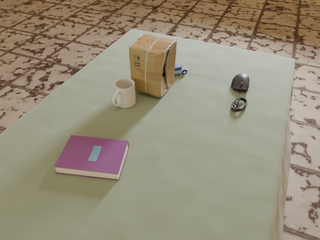book: (54, 135, 129, 180)
box: (129, 34, 177, 98)
cup: (112, 79, 136, 108)
mouse: (231, 74, 249, 93)
toy_car: (175, 64, 188, 75)
